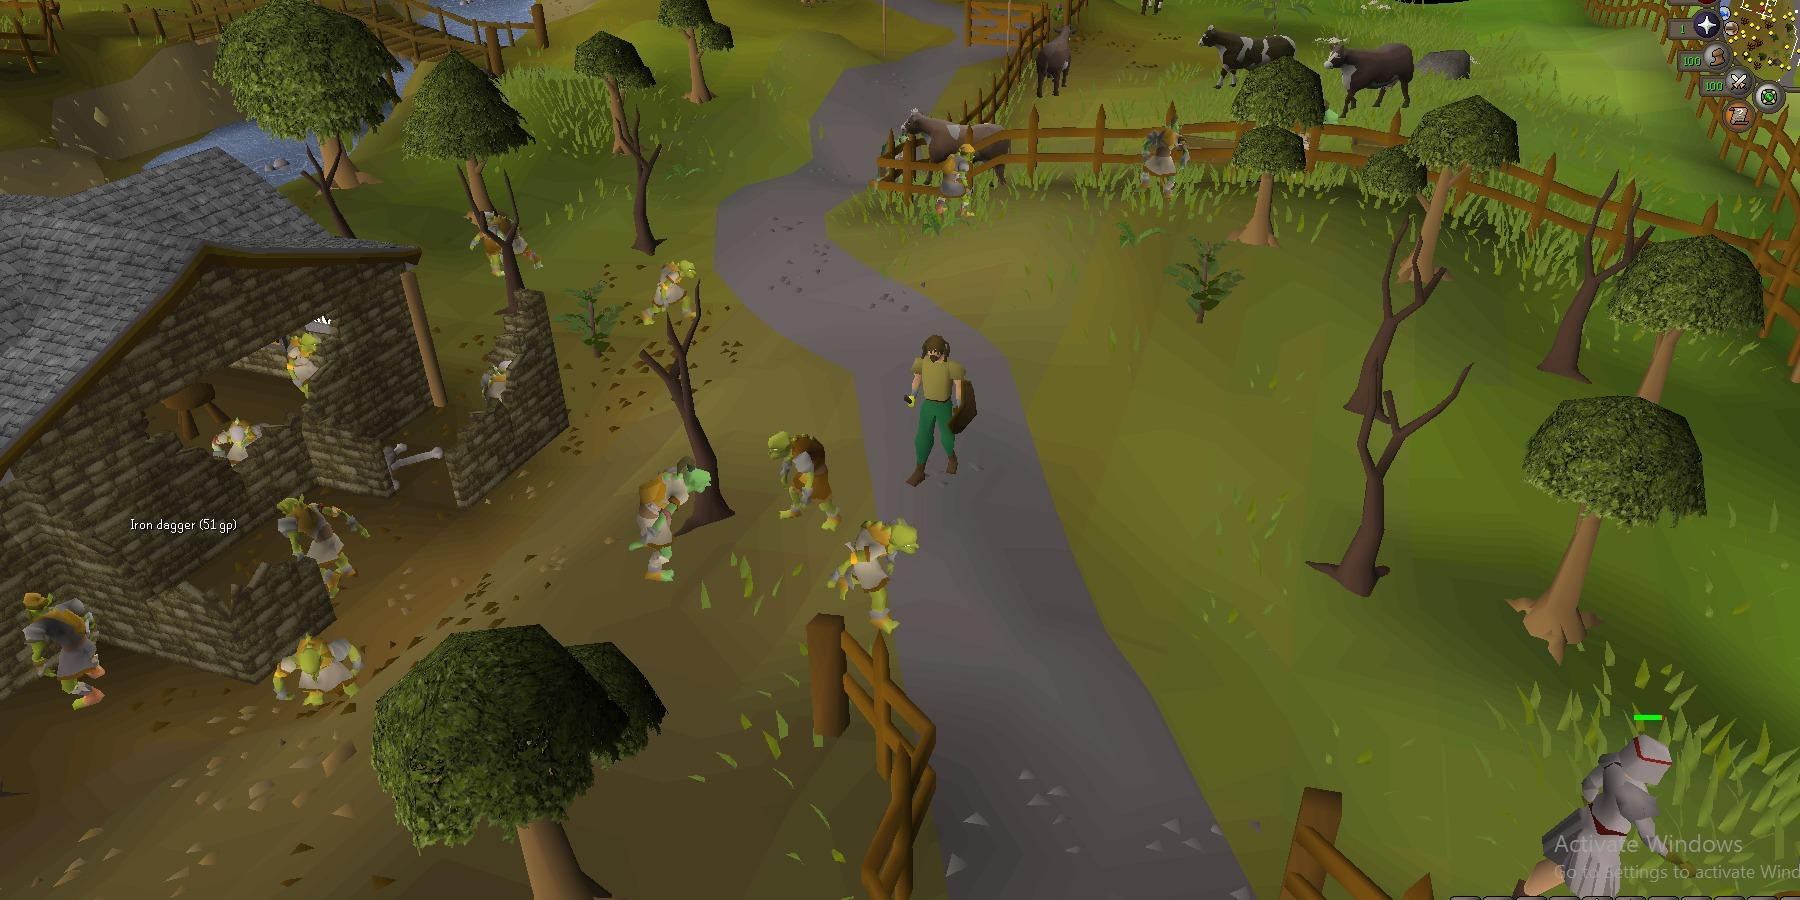goblin: (623, 449, 717, 587), (824, 515, 920, 636), (274, 492, 372, 599), (20, 590, 106, 711), (763, 426, 841, 534), (267, 631, 363, 706), (468, 212, 546, 278), (1132, 115, 1188, 200), (639, 258, 701, 327), (210, 416, 276, 463), (934, 143, 975, 218), (285, 332, 325, 399), (478, 359, 515, 406)
